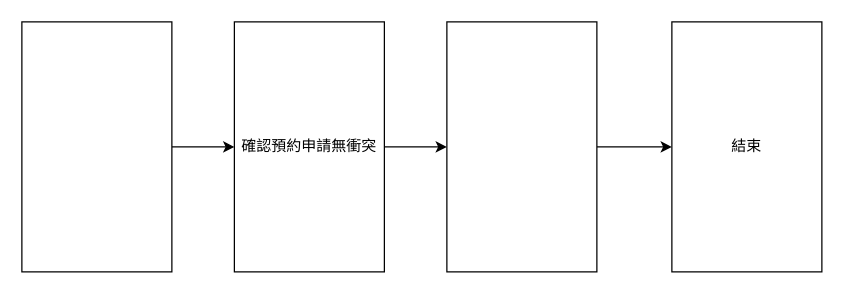
Some shapes in this 844 by 294 pixel diagram are drawn without their labels. The shapes that lost their labels are listed below. From the top down, each one's centre as x and y in pixels, then its label:
the point at 96,146: 開始
the point at 521,146: 推送預約成功通知給預約型買家
